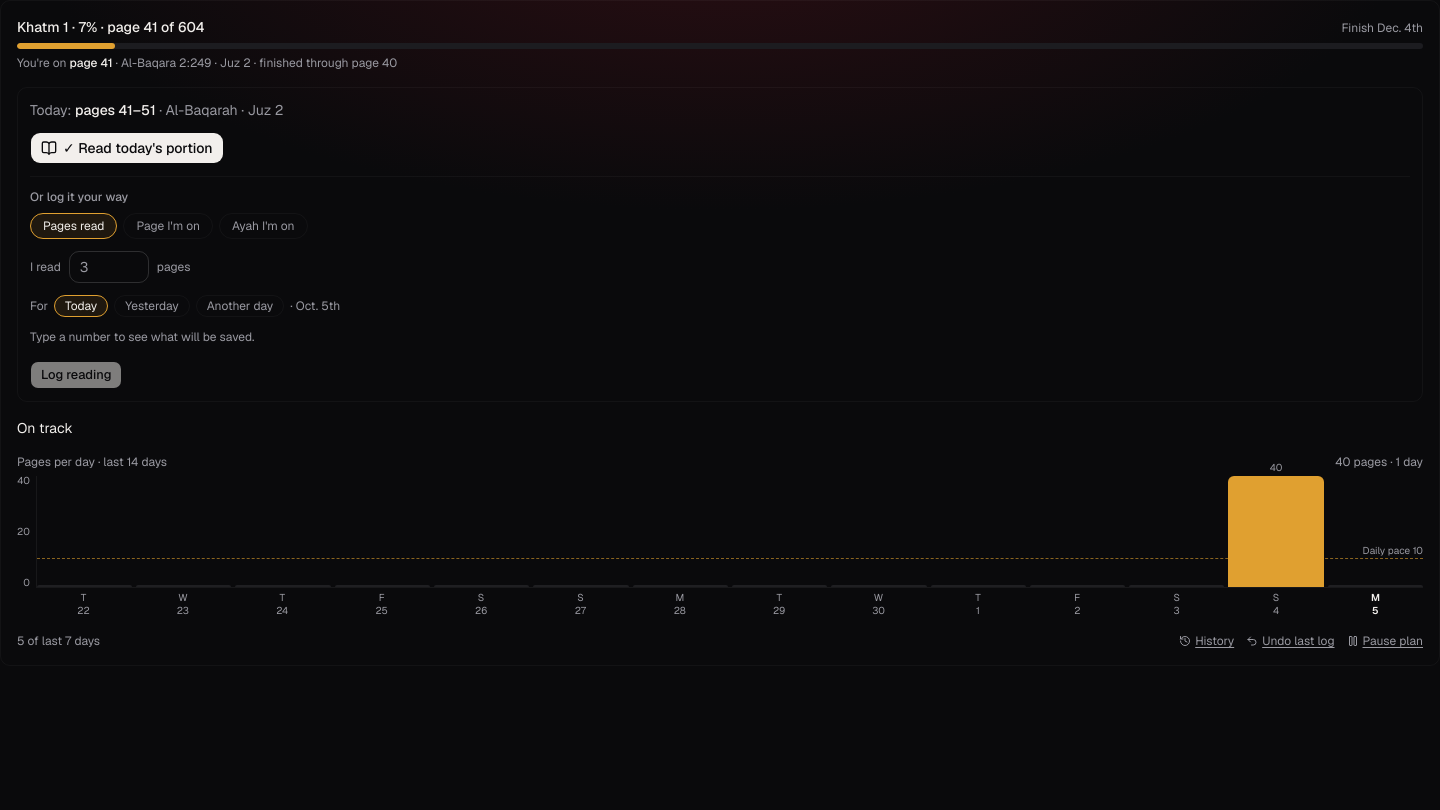
Test: QuranPlanCard (QURAN-02) › the optimistic percent floors (page 52 of 604 -> 8%, not 9%), matching the server
The image size is (1440, 810).
Click the button with test id "quran-log-portion" at (127, 148), box x1=30 y1=132 x2=224 y2=164
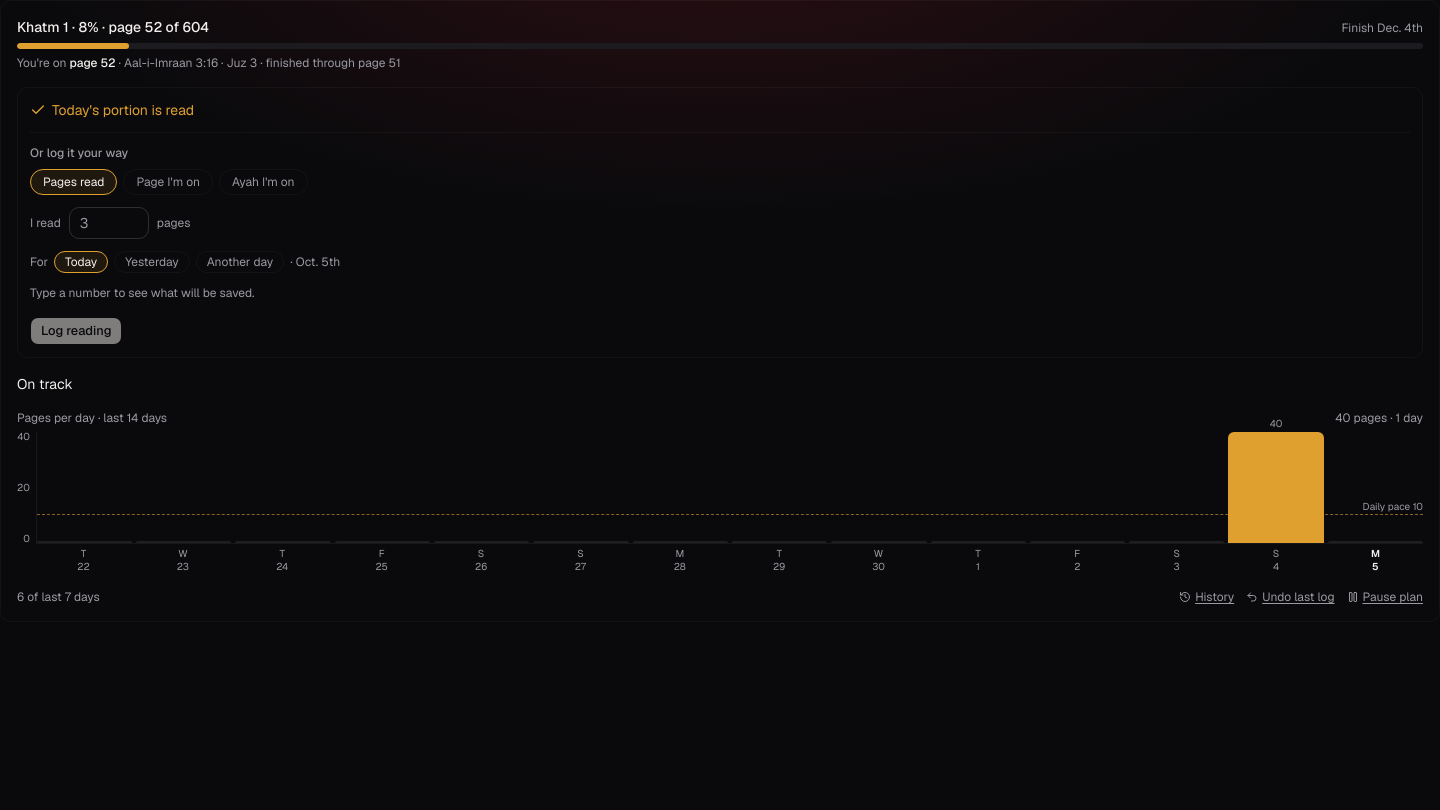
Check: the heading with test id "quran-heading" shows "8% · page 52", box x1=17 y1=17 x2=209 y2=37
